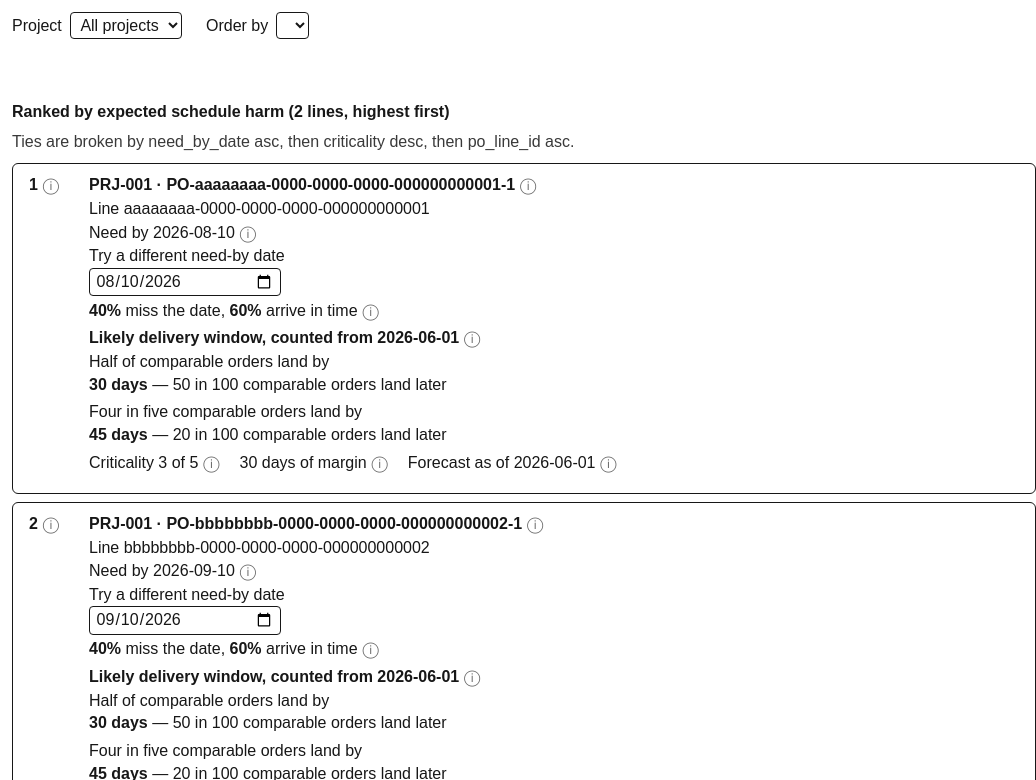
Test: adjusting a need-by date › acknowledges an adjustment that changes no ordering
Type "2026-08-05" into the date field labelled "Try a different need-by date" below "2026-08-10". click: (185, 282)
box: [89,268,281,296]
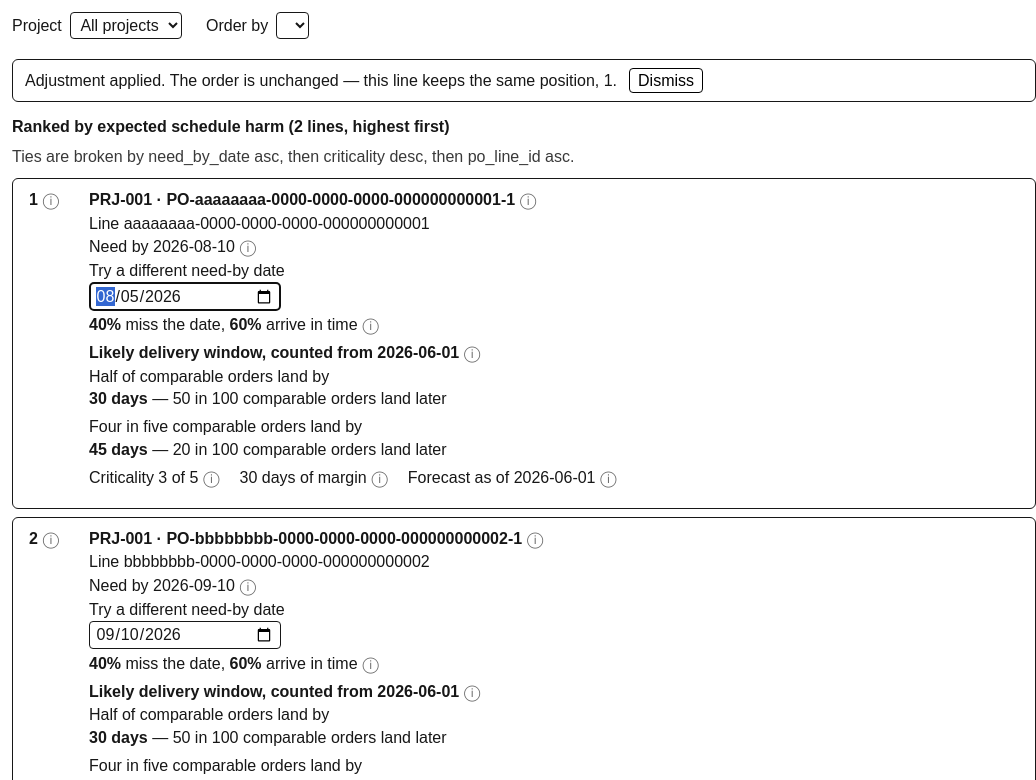
Now the message named "Adjustment status" shows "applied", box [25,72,617,89]
Now the message named "Adjustment status" shows "order is unchanged", box [25,72,617,89]
